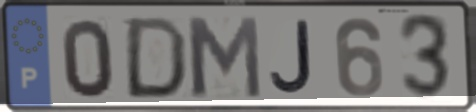0: (58, 14, 117, 101)
3: (398, 11, 452, 104)
6: (331, 14, 385, 99)
D: (122, 14, 191, 101)
J: (267, 17, 316, 97)
M: (182, 14, 265, 101)
